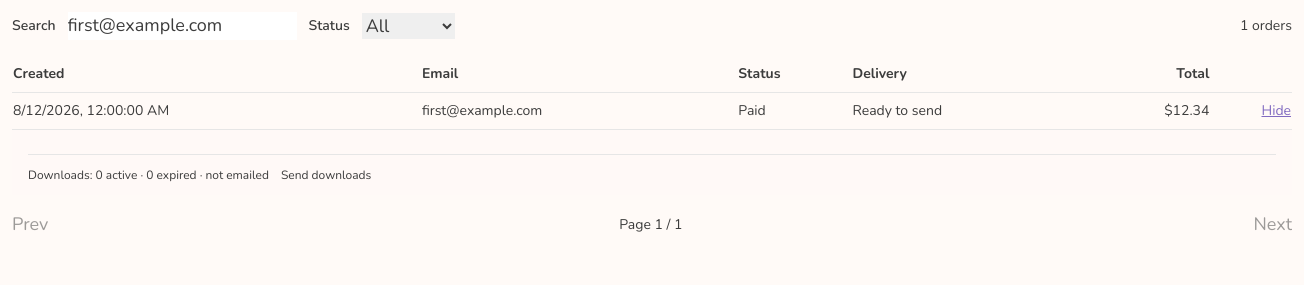
Test case: OrdersTable search deep links › shows fulfillment state and sends fresh links from the expanded paid order
The width and height of the screenshot is (1304, 285).
What coordinates should you click on to do the following:
click the button "Send downloads"
I would click on:
 (326, 175)
Its box is [281, 167, 371, 183].
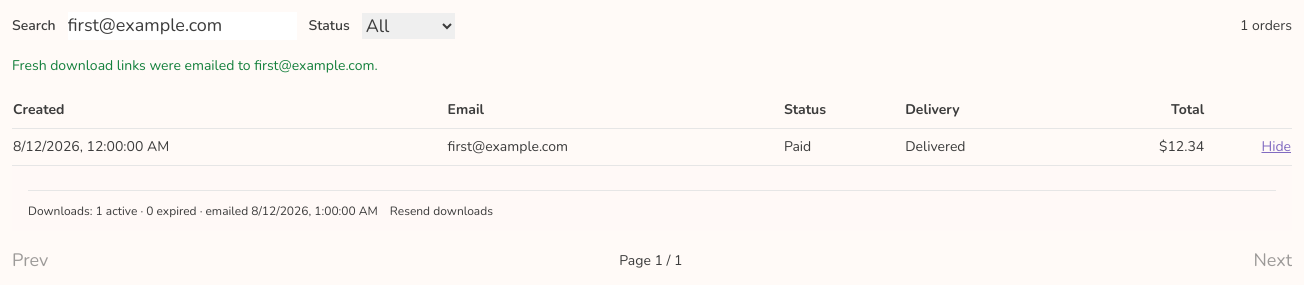
Expected: the message reads "Fresh download links were emailed to first@example.com.", [12, 56, 378, 75]
Expected: the text "Delivered" is shown, [904, 128, 1076, 165]
Expected: the button "Resend downloads" is shown, [390, 203, 493, 219]
